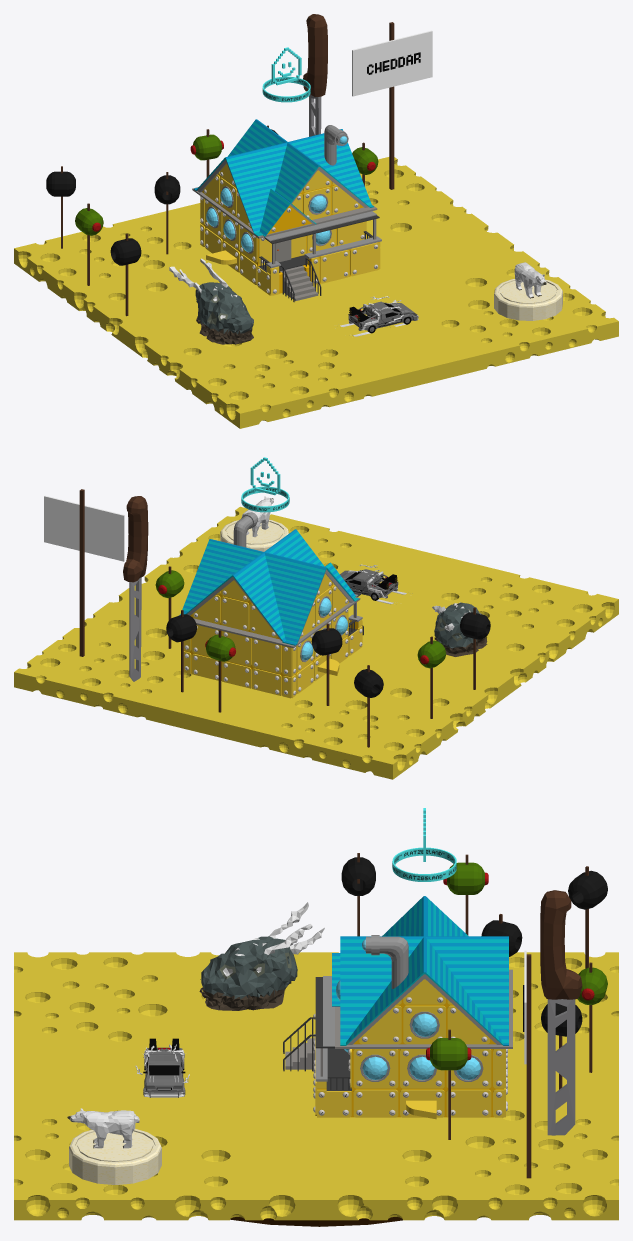
3 renders of one model, top to bottom at view 1: azimuth 30°, elevation 25°; view 2: azimuth 150°, elevation 25°; view 3: azimuth 270°, elevation 25°, orthographic. The views are drawn at different scales.
Visible parts, largest first — view 1: Cube.022, Cube.1366, Cube.023, OBJRANDOM_METEORITE, Cylinder.016, Cube.024, VEHICLES_DELOREAN, TYPE_PREMIUM, Sphere.017, Sphere.016, Sphere.020, Sphere.018 (+3 smaller); view 2: Cube.022, Cube.1366, Cube.023, Cube.024, OBJRANDOM_METEORITE, VEHICLES_DELOREAN, Cylinder.016, TYPE_PREMIUM, Sphere.020, Sphere.022, Sphere.017, Sphere.021 (+4 smaller); view 3: Cube.022, Cube.1366, OBJRANDOM_METEORITE, Cube.024, Cylinder.016, VEHICLES_DELOREAN, Cube.023, ANIMAL_OSO_POLAR, Sphere.019, Sphere.016, Sphere.018, TYPE_PREMIUM (+5 smaller).
Boxes of the visible parts, x1=… form: Cube.022: x1=14, y1=157, x2=618, y2=428; Cube.1366: x1=192, y1=119, x2=381, y2=302; Cube.023: x1=352, y1=22, x2=432, y2=189; OBJRANDOM_METEORITE: x1=169, y1=258, x2=253, y2=344; Cylinder.016: x1=494, y1=279, x2=562, y2=320; Cube.024: x1=303, y1=14, x2=327, y2=136; VEHICLES_DELOREAN: x1=335, y1=296, x2=418, y2=336; TYPE_PREMIUM: x1=262, y1=47, x2=310, y2=102; Sphere.017: x1=110, y1=233, x2=141, y2=316; Sphere.016: x1=46, y1=166, x2=75, y2=248; Sphere.020: x1=154, y1=172, x2=180, y2=254; Sphere.018: x1=75, y1=203, x2=103, y2=285; Cube.022: x1=14, y1=506, x2=618, y2=779; Cube.1366: x1=178, y1=512, x2=363, y2=698; Cube.023: x1=44, y1=489, x2=124, y2=656; Cube.024: x1=123, y1=496, x2=148, y2=681; OBJRANDOM_METEORITE: x1=432, y1=602, x2=487, y2=656; VEHICLES_DELOREAN: x1=340, y1=564, x2=412, y2=604; Cylinder.016: x1=220, y1=519, x2=288, y2=551; TYPE_PREMIUM: x1=241, y1=457, x2=289, y2=512; Sphere.020: x1=311, y1=623, x2=342, y2=705; Sphere.022: x1=205, y1=630, x2=235, y2=712; Sphere.017: x1=460, y1=607, x2=490, y2=689; Sphere.021: x1=166, y1=610, x2=196, y2=692; Cube.022: x1=14, y1=952, x2=618, y2=1220; Cube.1366: x1=283, y1=896, x2=512, y2=1119; OBJRANDOM_METEORITE: x1=199, y1=902, x2=324, y2=1010; Cube.024: x1=540, y1=890, x2=582, y2=1135; Cylinder.016: x1=69, y1=1128, x2=161, y2=1184; VEHICLES_DELOREAN: x1=135, y1=1038, x2=189, y2=1097; Cube.023: x1=523, y1=950, x2=531, y2=1178; ANIMAL_OSO_POLAR: x1=67, y1=1108, x2=139, y2=1148; Sphere.019: x1=426, y1=1029, x2=471, y2=1139; Sphere.016: x1=568, y1=866, x2=607, y2=968; Sphere.018: x1=443, y1=854, x2=488, y2=935; TYPE_PREMIUM: x1=392, y1=808, x2=456, y2=881.
Bounding box in the file's own units: 3917 × 2290 × 4000.
Materials: 43 (4 with a texture image).
